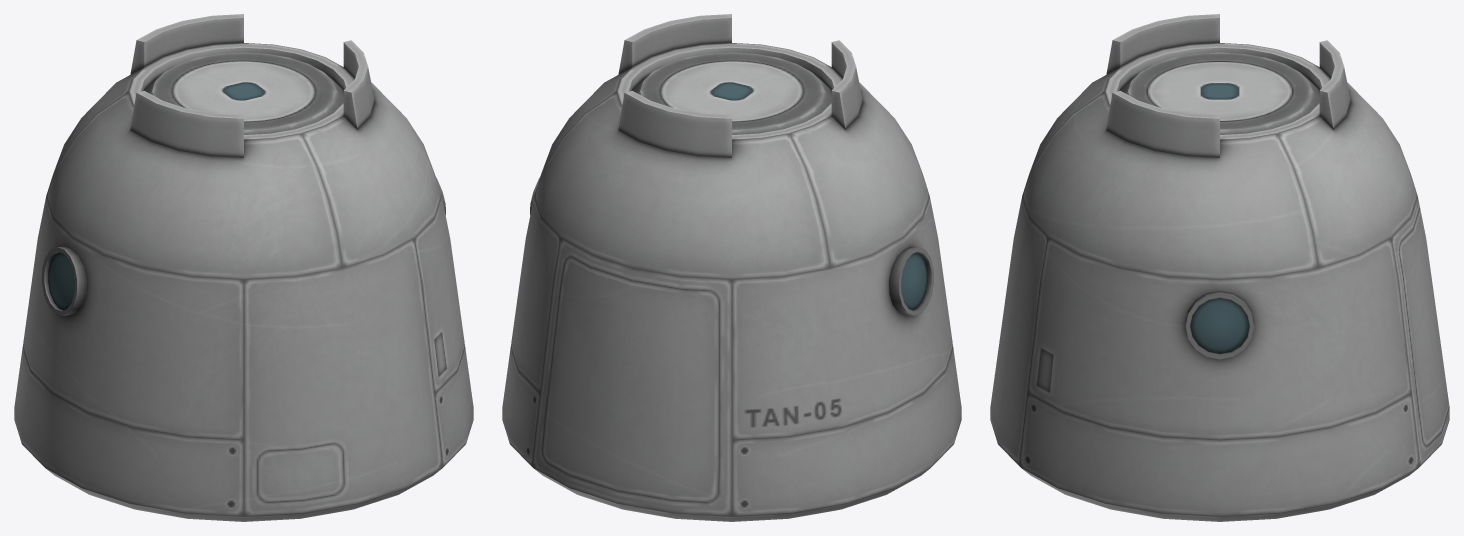
Rendered from Tantares_Crew_1.obj.
3 renders of one model, left to right at view 1: azimuth 30°, elevation 25°; view 2: azimuth 150°, elevation 25°; view 3: azimuth 270°, elevation 25°, orthographic.
Parts seen in each view (by area): view 1: Tantares_Crew_1, Tantares_Crew_1_Windows; view 2: Tantares_Crew_1, Tantares_Crew_1_Windows; view 3: Tantares_Crew_1, Tantares_Crew_1_Windows.
Boxes of the visible parts, x1,y1,x2,y2 form: Tantares_Crew_1: (14, 14, 473, 521); Tantares_Crew_1_Windows: (48, 252, 74, 310); Tantares_Crew_1: (502, 14, 961, 521); Tantares_Crew_1_Windows: (901, 252, 927, 310); Tantares_Crew_1: (990, 14, 1449, 521); Tantares_Crew_1_Windows: (1190, 298, 1249, 353).
Bounding box in the file's own units: 1.25 × 1.09 × 1.25.
